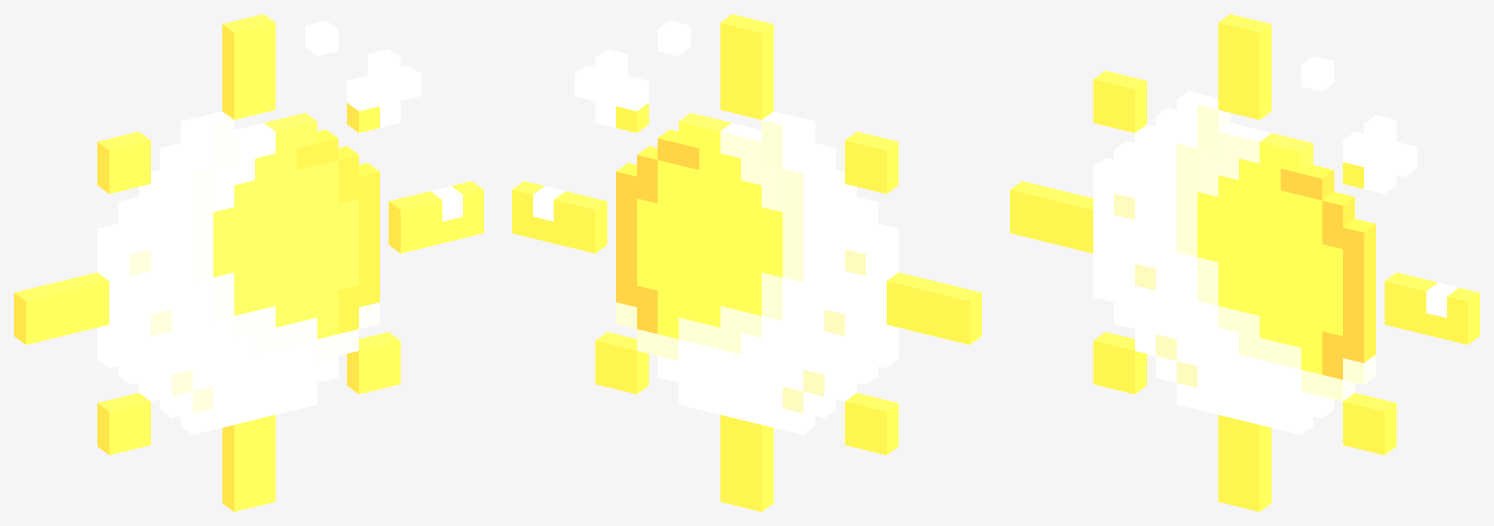
File: celestial.glb
3 views of the same model, side by side, from view 1: azimuth 30°, elevation 25°; view 2: azimuth 150°, elevation 25°; view 3: azimuth 330°, elevation 25° (orthographic).
Parts seen in each view (by area): view 1: PixelMoonFace, PixelSunDisc, PixelSunRays, PixelMoonStars; view 2: PixelMoonFace, PixelSunDisc, PixelSunRays, PixelMoonStars; view 3: PixelMoonFace, PixelSunDisc, PixelSunRays, PixelMoonStars.
Part boxes in pixels (box(x1,y1,x2,y2)): PixelMoonFace: box(97, 111, 379, 434); PixelSunDisc: box(213, 112, 379, 339); PixelSunRays: box(14, 14, 483, 511); PixelMoonStars: box(305, 20, 462, 221); PixelMoonFace: box(616, 111, 898, 434); PixelSunDisc: box(616, 112, 782, 339); PixelSunRays: box(512, 14, 981, 511); PixelMoonStars: box(533, 20, 690, 221); PixelMoonFace: box(1093, 91, 1375, 434); PixelSunDisc: box(1197, 123, 1375, 379); PixelSunRays: box(1010, 14, 1479, 511); PixelMoonStars: box(1301, 56, 1458, 317).
Size of the model in its own units: 1.76 by 1.76 by 0.08.
